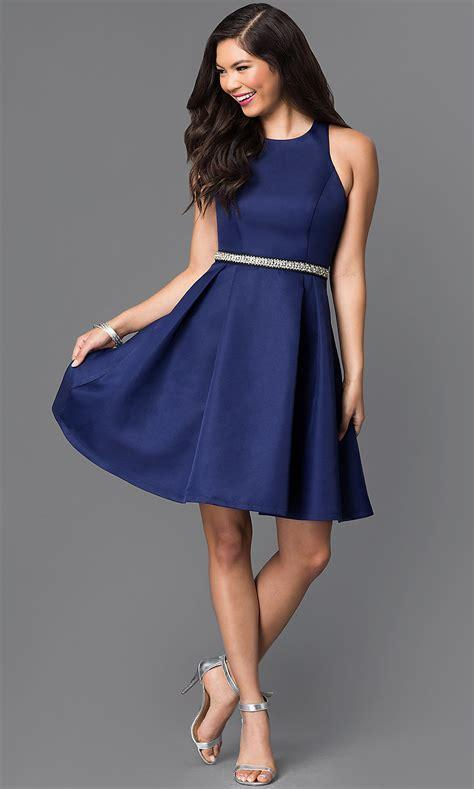dress: (52, 118, 375, 524)
